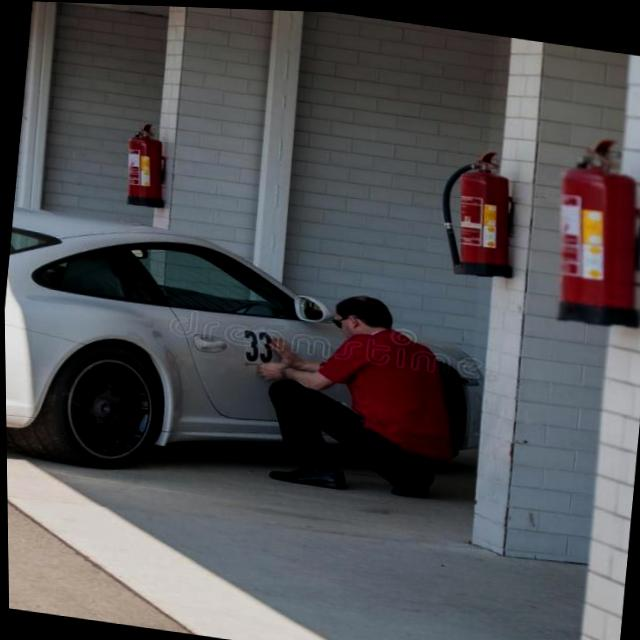FireExtinguisher: (544, 126, 640, 329), (429, 138, 530, 280), (116, 117, 177, 211)
